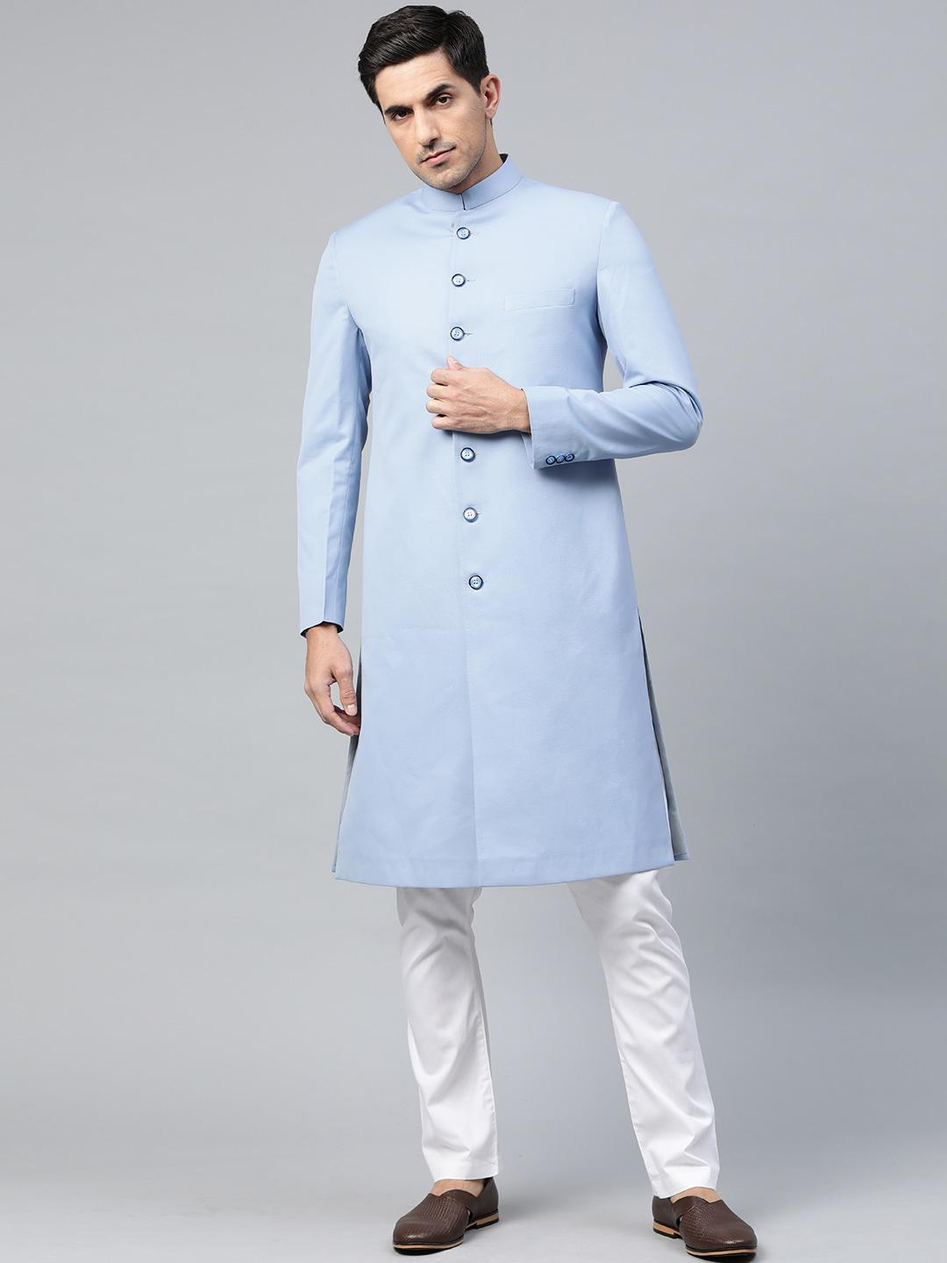Plain sherwani: (289, 155, 710, 891)
